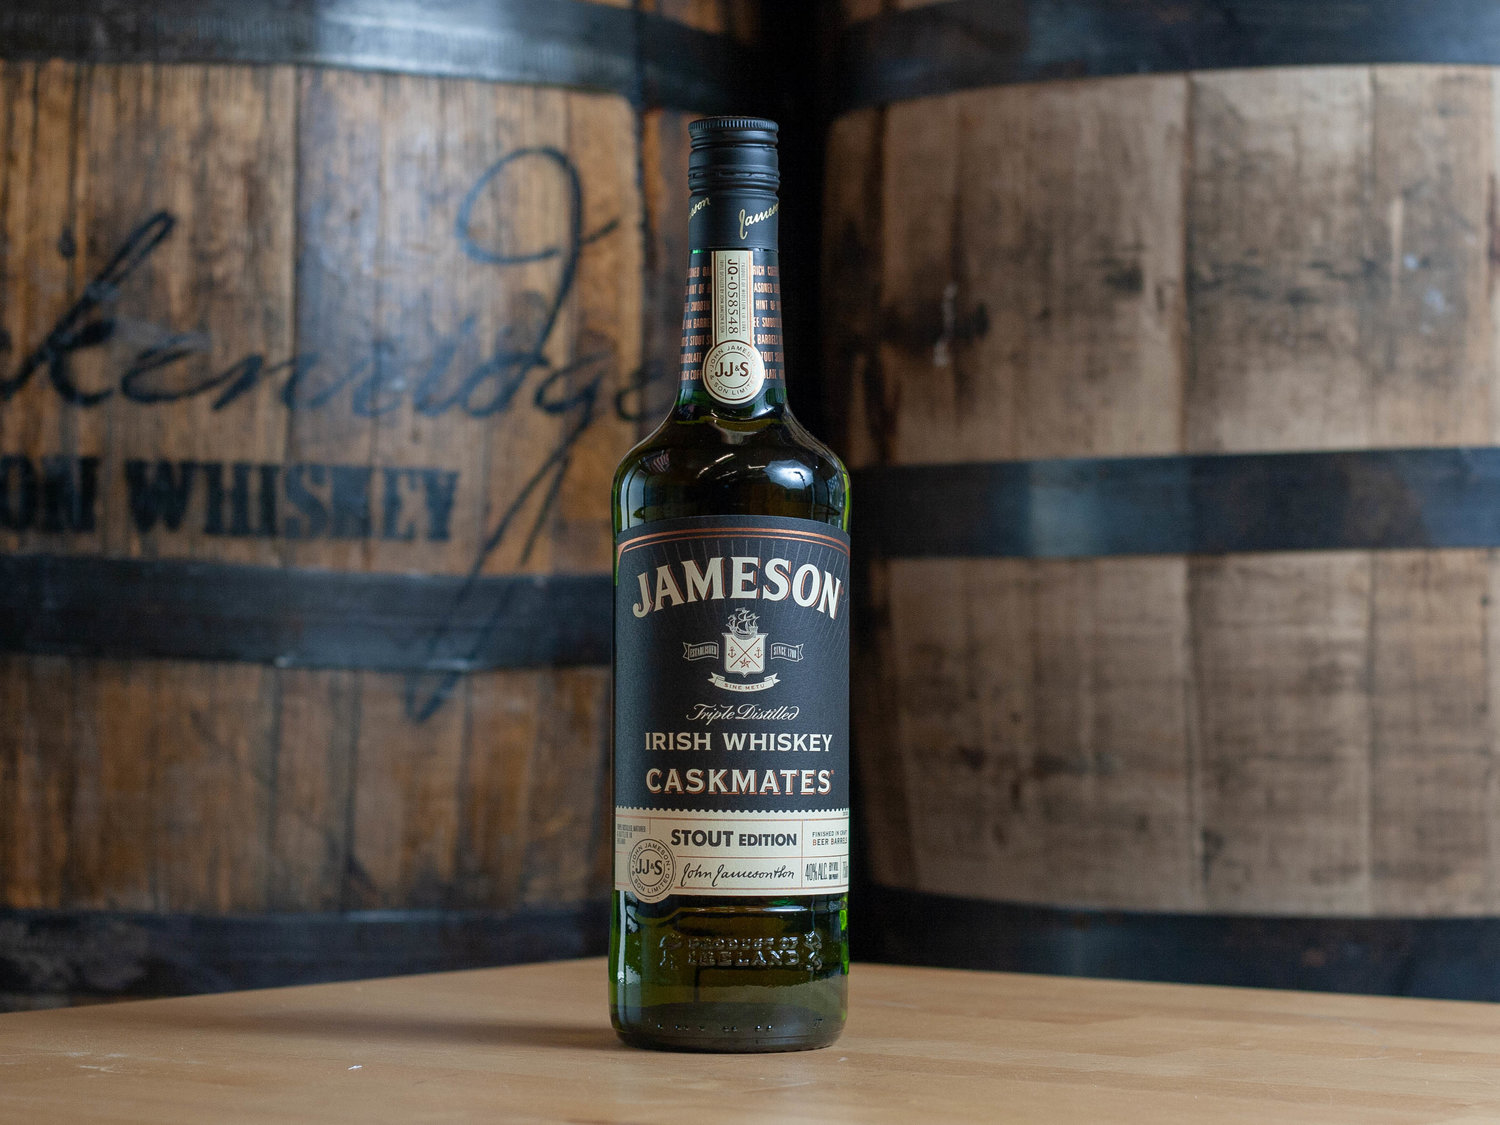Jameson: (598, 104, 860, 1064)
